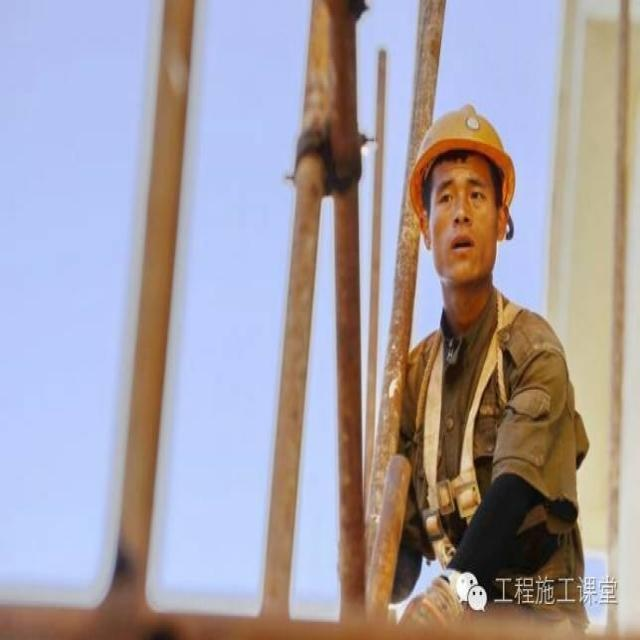Arnes_seguridad: (409, 295, 543, 571)
